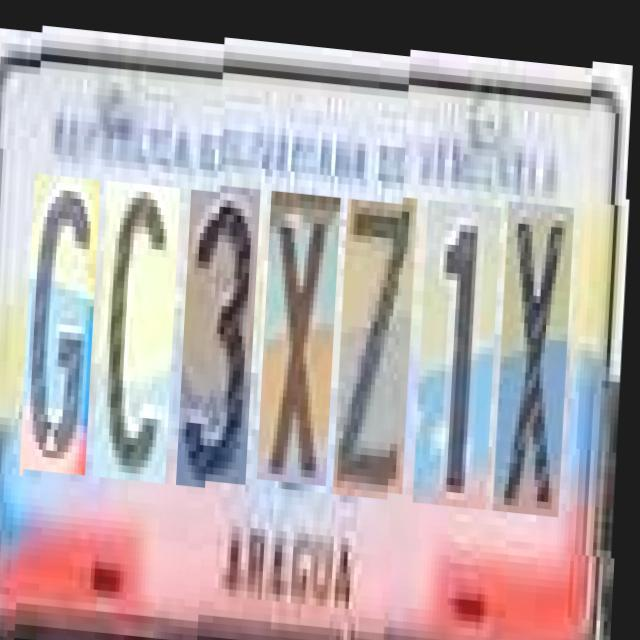1: (418, 191, 502, 498)
3: (182, 171, 262, 472)
C: (98, 164, 182, 466)
G: (25, 158, 103, 459)
X: (498, 190, 576, 505), (262, 178, 343, 472)
Z: (338, 184, 419, 485)
